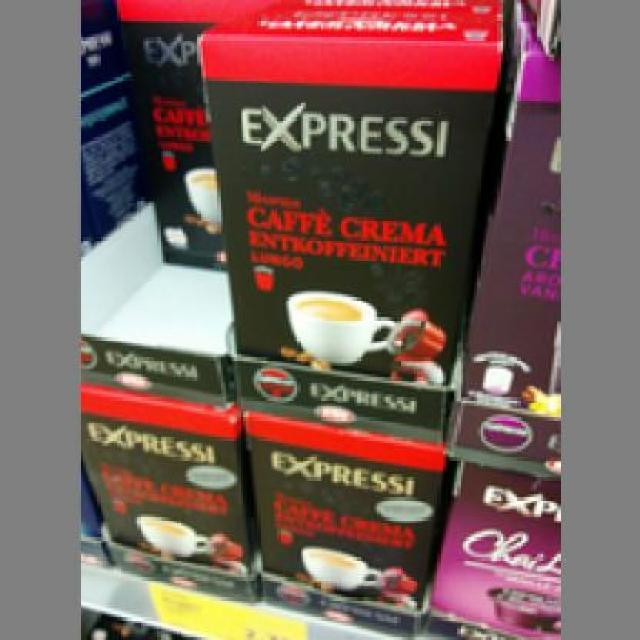Coffee: (192, 3, 498, 383), (237, 408, 446, 606), (78, 377, 252, 566)
